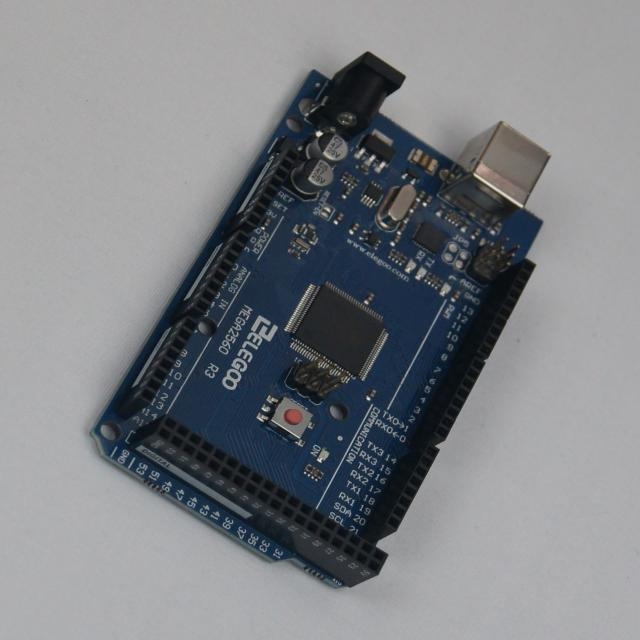Arduino Mega 2560 -Blue-: (95, 53, 550, 588)
